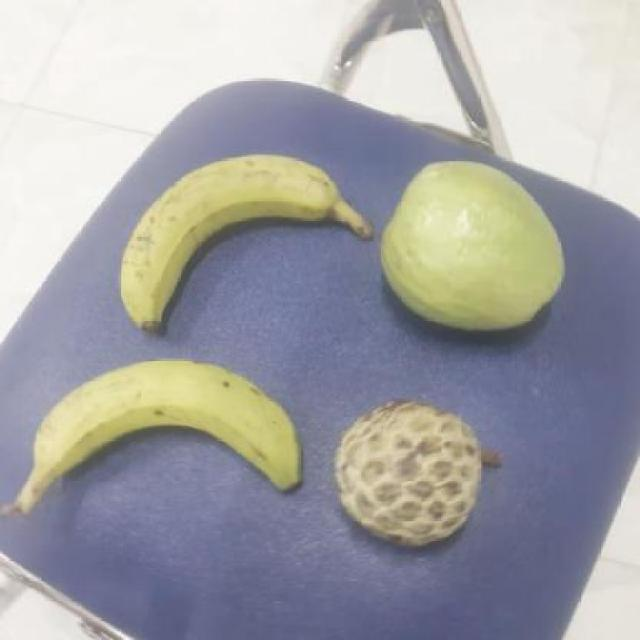banana: (121, 154, 384, 334), (32, 359, 316, 506)
guava: (378, 156, 567, 333)
sugar apple: (337, 401, 498, 547)
